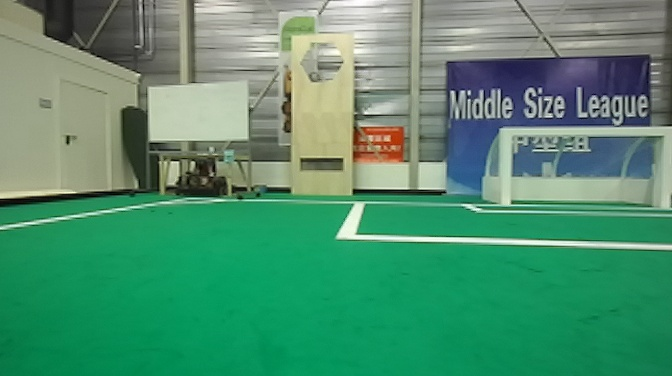goalpost: (494, 125, 517, 207)
